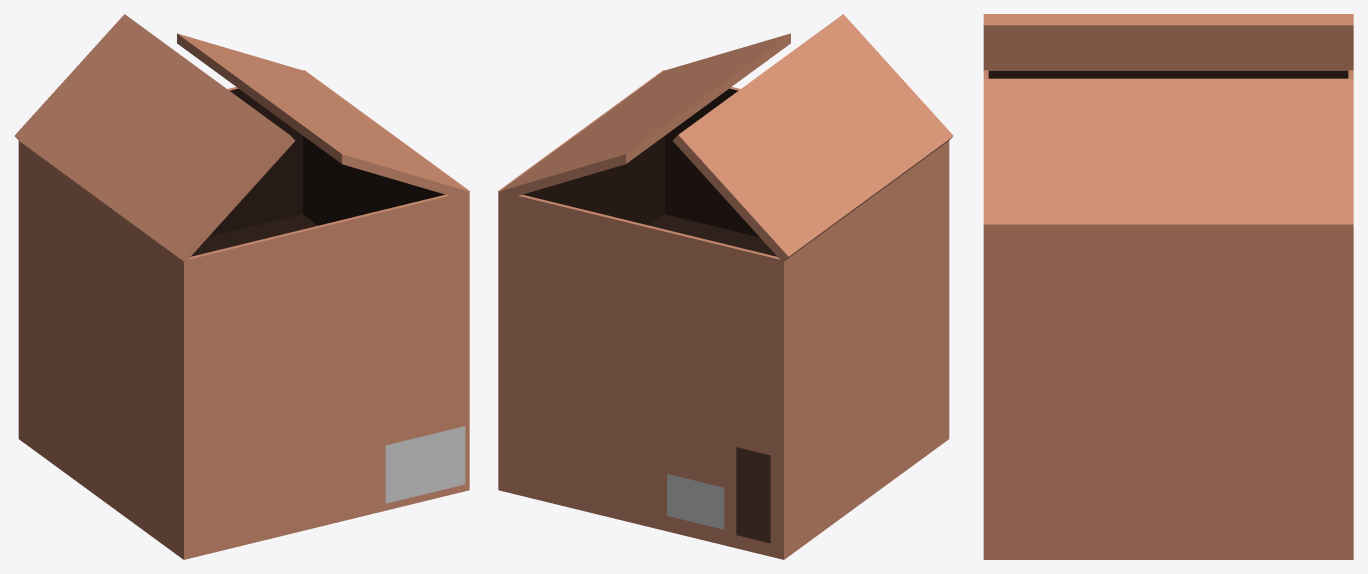
Rendered from PaperBox.FBX.
The picture shows the model from 3 angles, left to right: view 1: azimuth 30°, elevation 25°; view 2: azimuth 150°, elevation 25°; view 3: azimuth 270°, elevation 25°; orthographic projection. The views are drawn at different scales.
Parts seen in each view (by area): view 1: PaperBox; view 2: PaperBox; view 3: PaperBox.
Part boxes in pixels (x1=…): PaperBox: x1=14, y1=14, x2=469, y2=559; PaperBox: x1=498, y1=14, x2=953, y2=559; PaperBox: x1=983, y1=14, x2=1353, y2=559.
Size of the model in its own units: 8.63 by 11.34 by 8.53.
